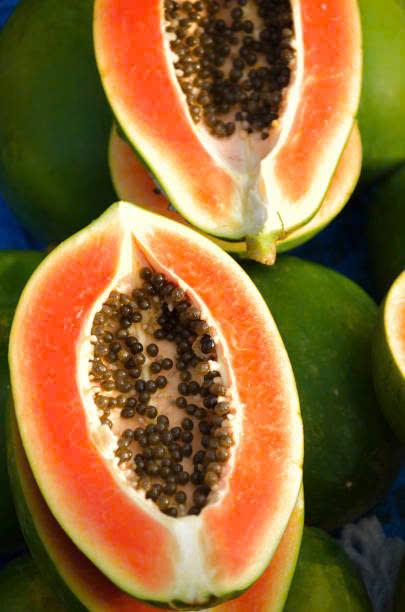papaya: (11, 202, 318, 609), (82, 0, 381, 254)
